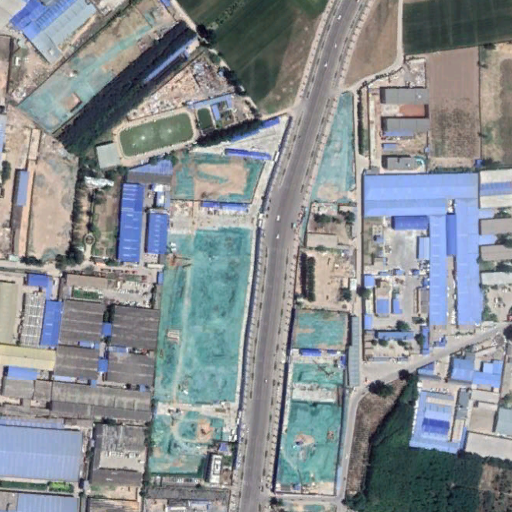cw: (147, 222, 254, 484), (18, 5, 157, 129), (272, 310, 345, 494), (306, 88, 356, 206), (170, 148, 258, 202)
